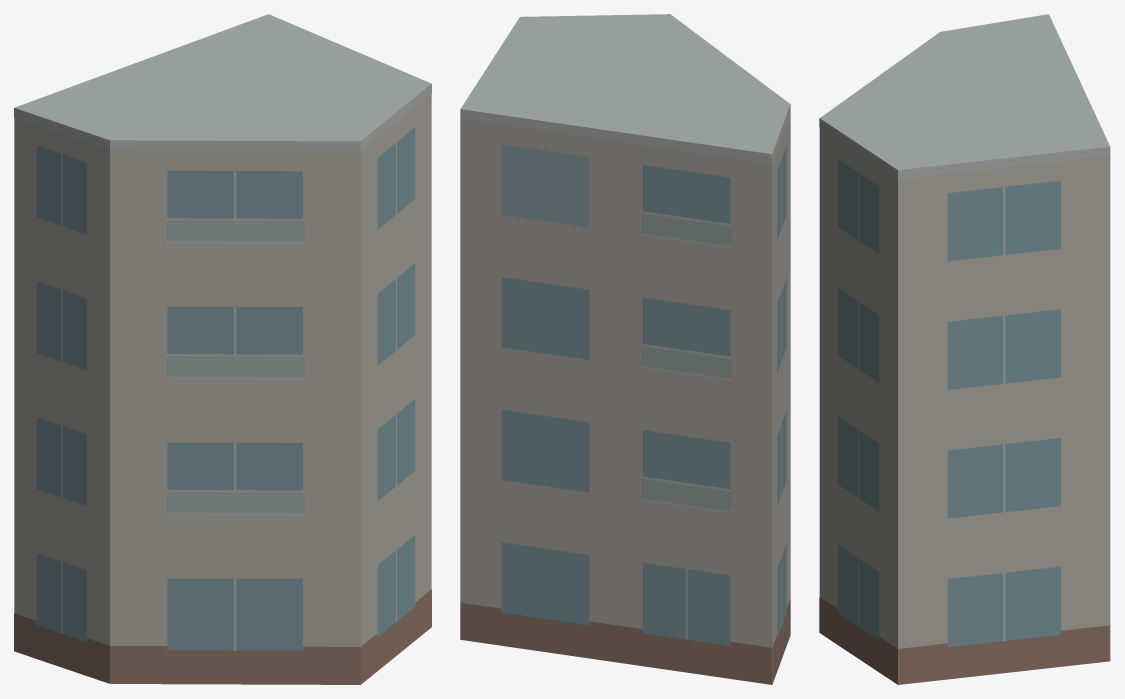
File: survey-upis-32462327.glb
3 renders of one model, left to right at view 1: azimuth 30°, elevation 25°; view 2: azimuth 150°, elevation 25°; view 3: azimuth 270°, elevation 25°, orthographic. The views are drawn at different scales.
Parts seen in each view (by area): view 1: survey-upis-32462327.tmp; view 2: survey-upis-32462327.tmp; view 3: survey-upis-32462327.tmp.
Part boxes in pixels (x1=…): survey-upis-32462327.tmp: x1=14, y1=14, x2=431, y2=684; survey-upis-32462327.tmp: x1=460, y1=14, x2=790, y2=684; survey-upis-32462327.tmp: x1=819, y1=14, x2=1110, y2=684.
Size of the model in its own units: 8.6 by 13.2 by 6.77.
